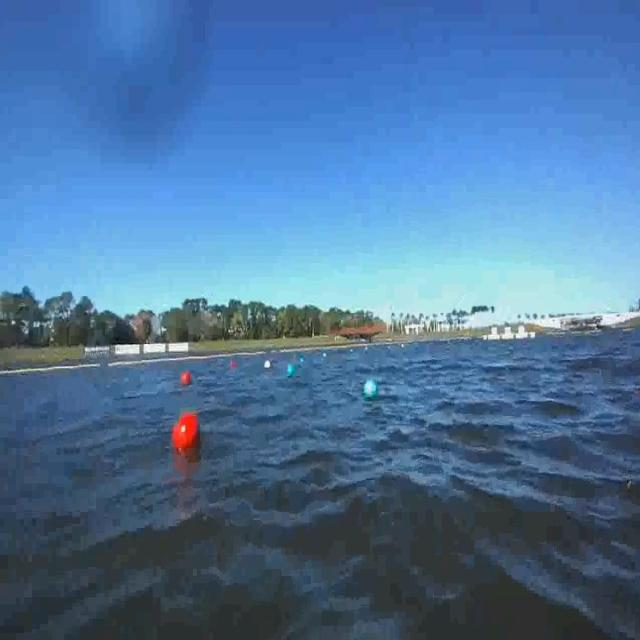green-buoy: (284, 359, 298, 382), (363, 376, 377, 396)
red-buoy: (171, 408, 204, 458), (180, 372, 192, 387)
